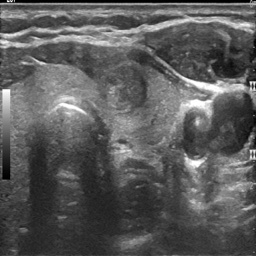mass: (100, 65, 147, 110)
